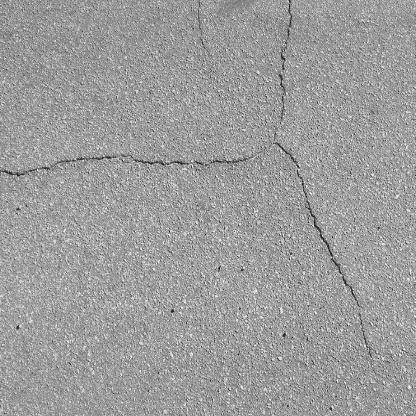Cracks: (272, 143, 379, 365), (0, 147, 267, 178), (275, 0, 297, 144), (194, 0, 213, 59)
